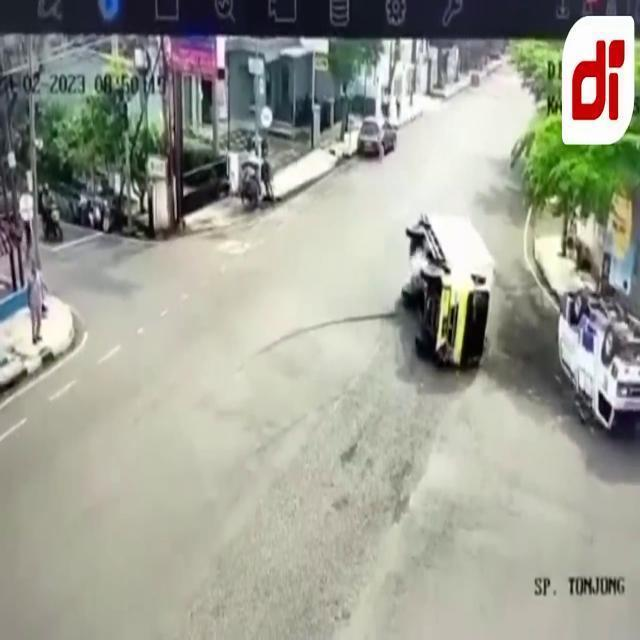accident: (405, 211, 489, 369), (558, 286, 640, 428)
